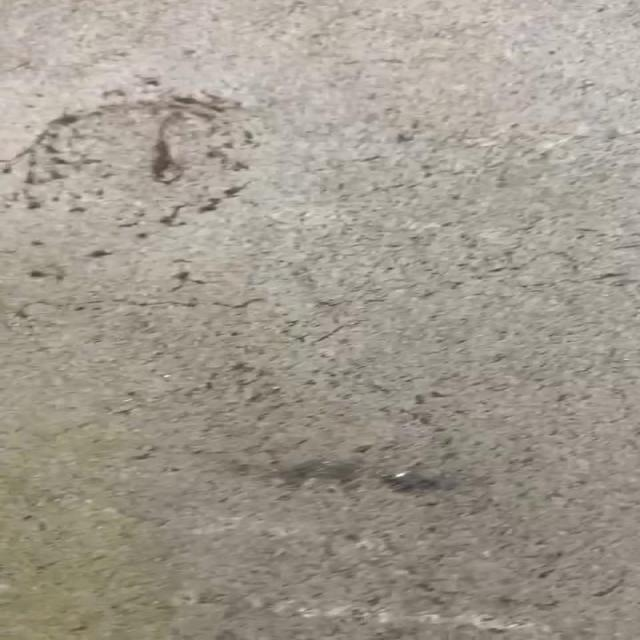Crack: (33, 87, 243, 228)
